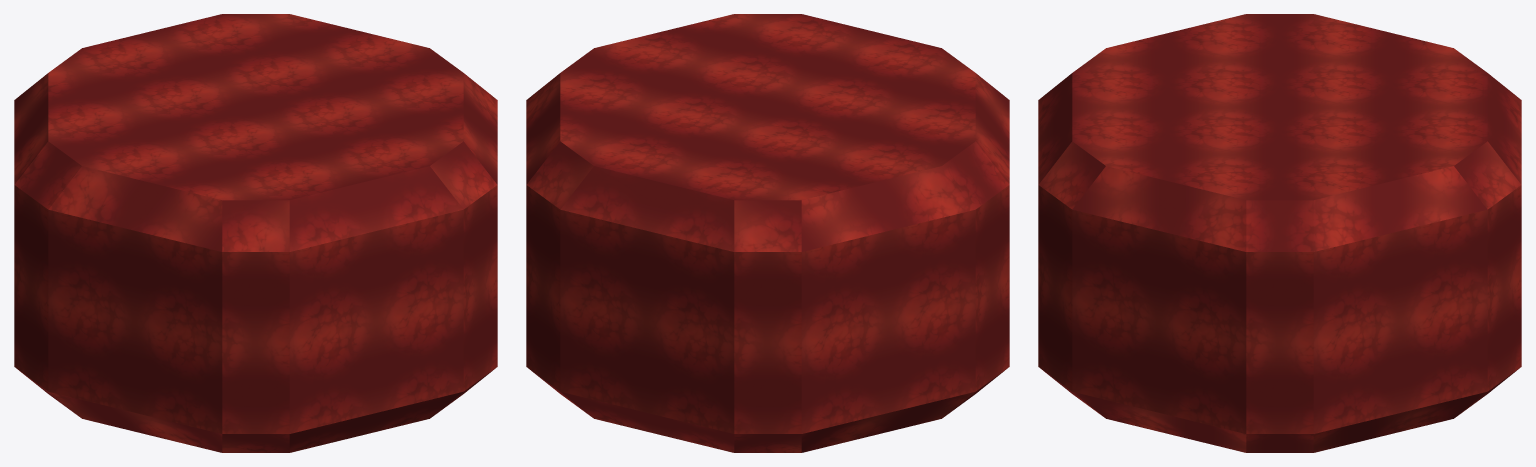
Rendered from Cell Variant C.fbx.
3 views of the same model, side by side, from view 1: azimuth 30°, elevation 25°; view 2: azimuth 150°, elevation 25°; view 3: azimuth 270°, elevation 25° (orthographic).
Parts seen in each view (by area): view 1: Cell_Variant_C; view 2: Cell_Variant_C; view 3: Cell_Variant_C.
Part boxes in pixels (x1,y1,x2,y2): Cell_Variant_C: (14, 14, 497, 452); Cell_Variant_C: (526, 14, 1009, 452); Cell_Variant_C: (1038, 14, 1521, 452).
Bounding box in the file's own units: 465 × 250 × 433.
1 material, 1 textured.
